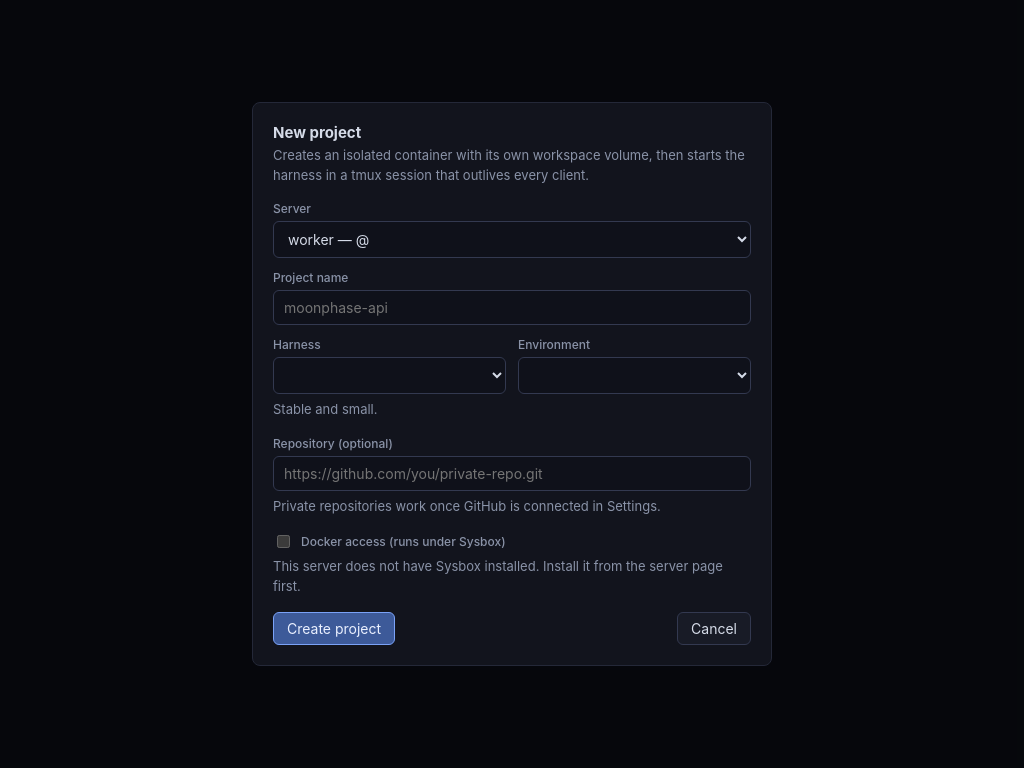
Test: a failed creation › does not try to delete anything on a first attempt
Type "portobello" into the field labelled "Project name" at (512,308), box left=273, top=290, right=751, bottom=325
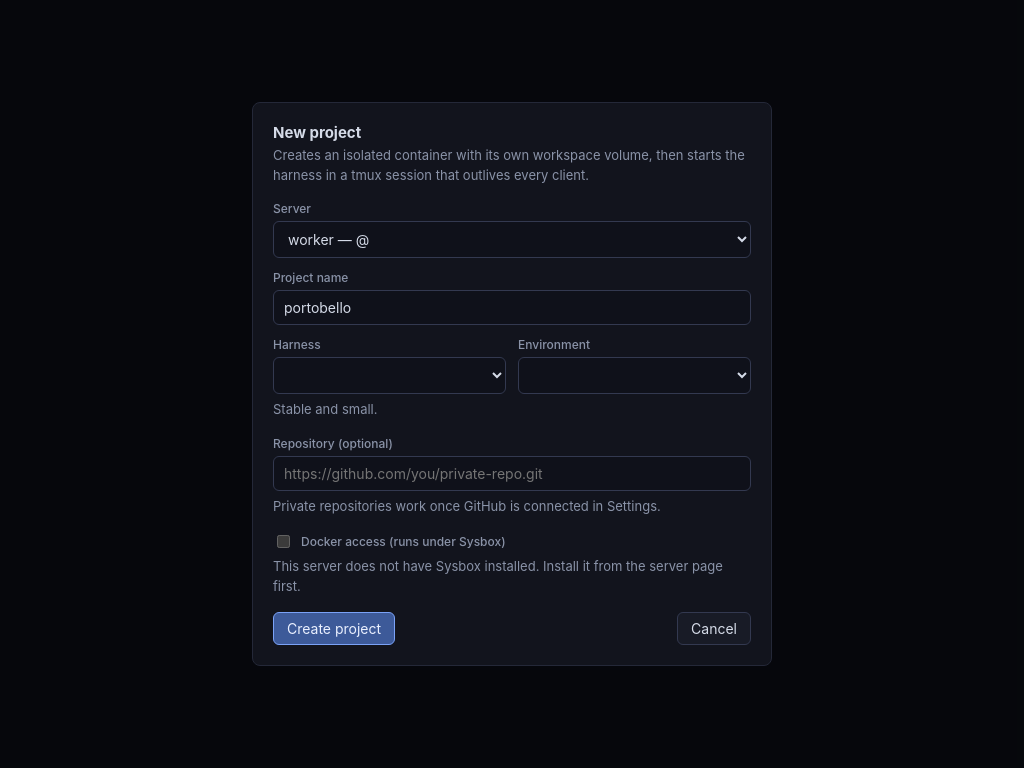
Click the button "Create project" at (334,628), box left=273, top=612, right=395, bottom=645
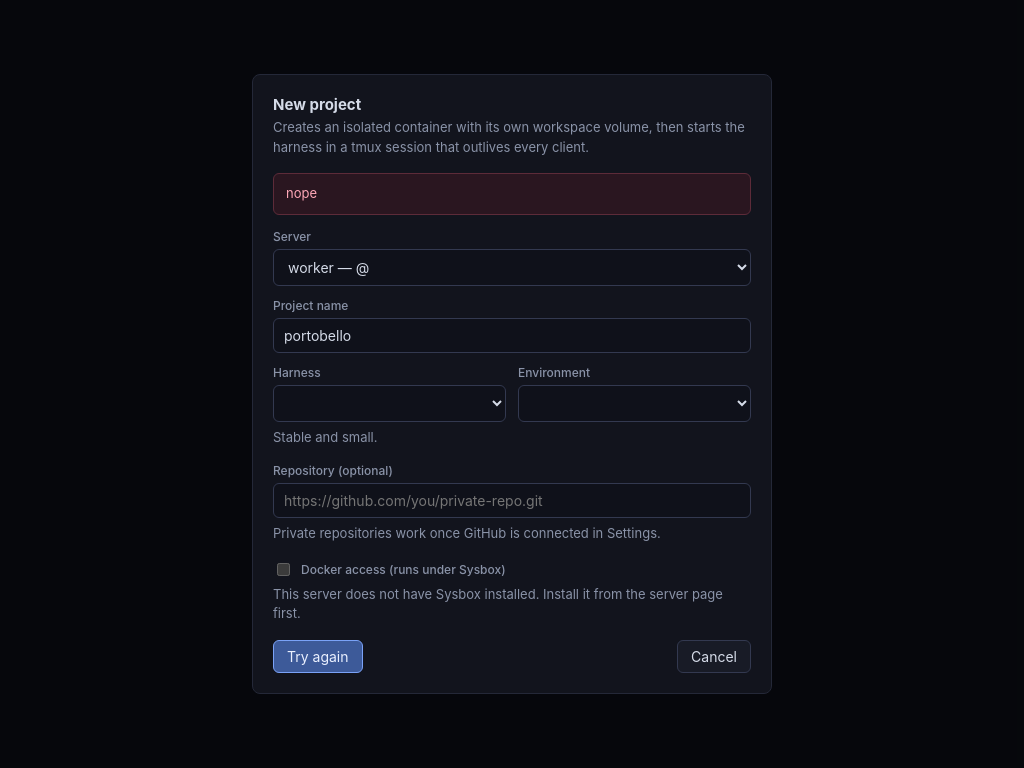
Result: the text "nope" is shown at left=273, top=173, right=751, bottom=215
